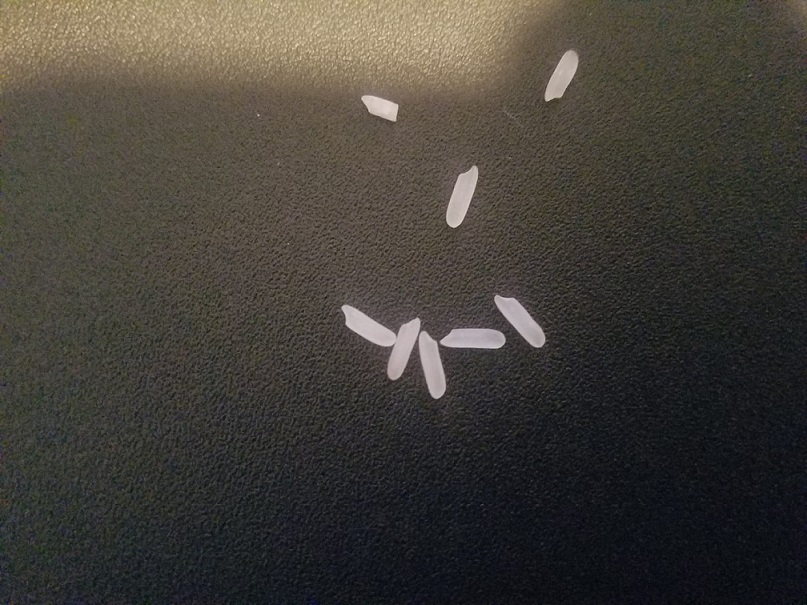egg: (492, 291, 545, 347), (338, 302, 398, 348), (415, 328, 449, 403), (444, 164, 481, 229), (385, 318, 421, 384), (543, 50, 580, 106), (439, 328, 506, 351), (360, 92, 400, 122)
